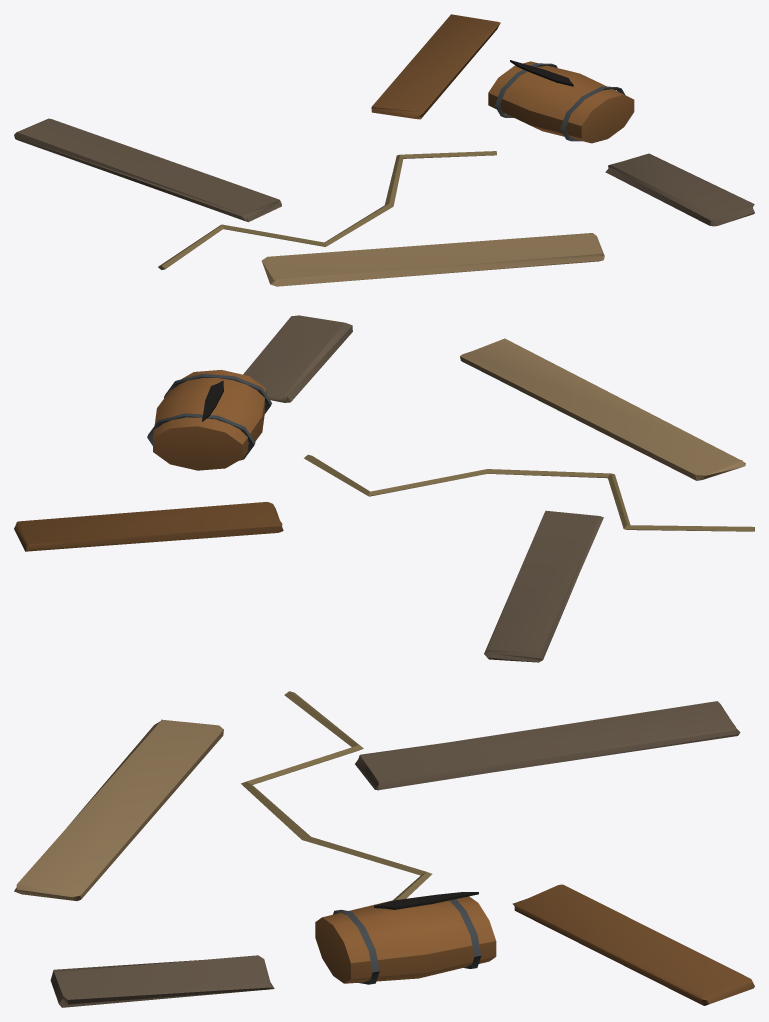
The model's file is 387_debris_plage.fbx.
3 views of the same model, one above another, from view 1: azimuth 30°, elevation 25°; view 2: azimuth 150°, elevation 25°; view 3: azimuth 270°, elevation 25° (orthographic). The views are drawn at different scales.
Parts seen in each view (by area): view 1: Planches, Tonneau, Cordes; view 2: Planches, Tonneau, Cordes; view 3: Planches, Tonneau, Cordes.
Part boxes in pixels (box(x1,y1,x2,y2)): Planches: box(14, 14, 754, 286); Tonneau: box(488, 60, 634, 143); Cordes: box(158, 151, 496, 269); Planches: box(14, 315, 745, 662); Tonneau: box(147, 370, 271, 470); Cordes: box(304, 454, 754, 531); Planches: box(14, 701, 754, 1007); Tonneau: box(315, 892, 496, 984); Cordes: box(241, 691, 432, 900).
Bounding box in the file's own units: 2.8 × 0.28 × 2.8.
Materials: 1 (1 with a texture image).
